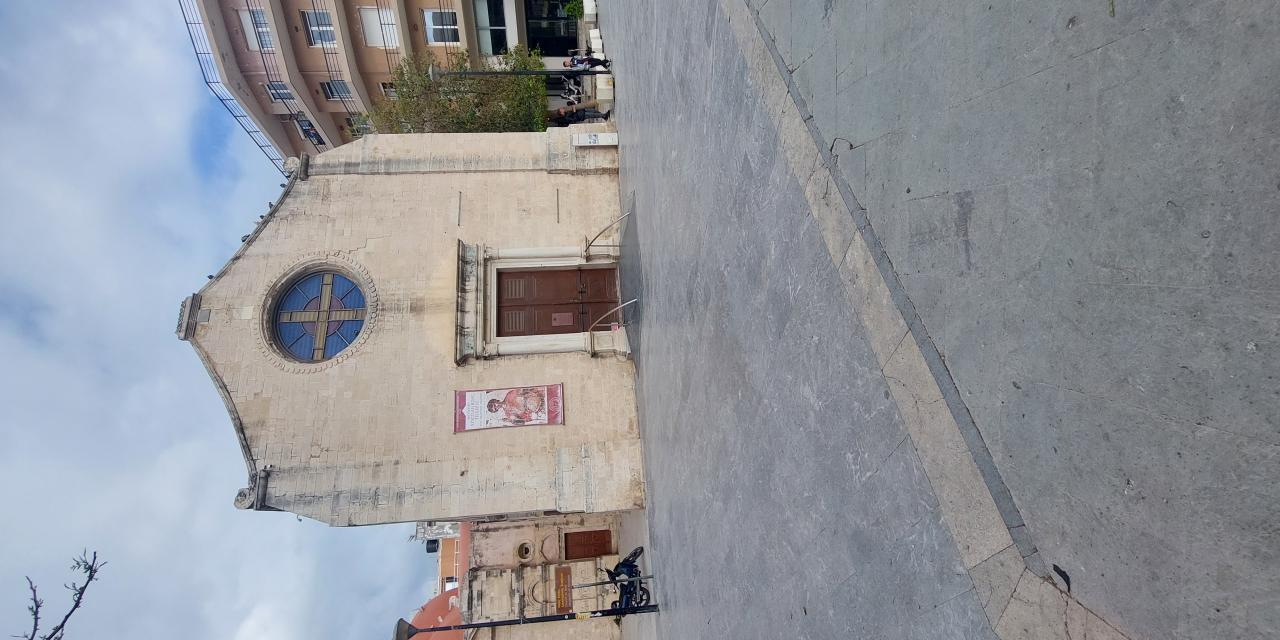Agia Aikaterini: (170, 112, 631, 526)
